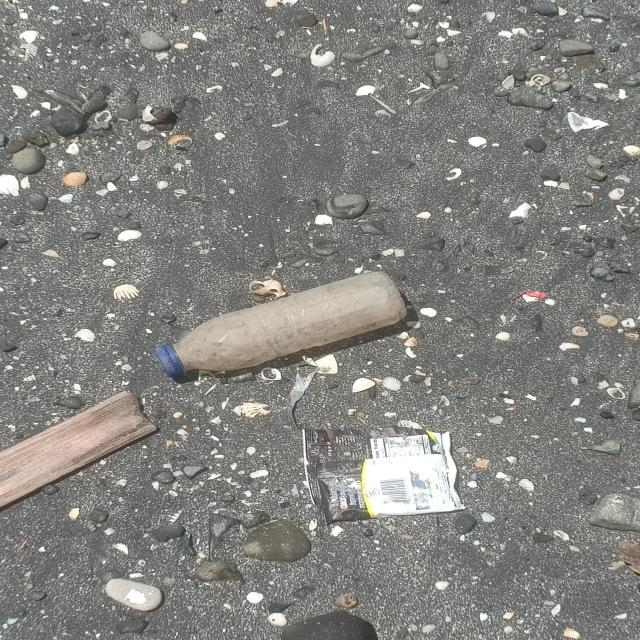litter: (158, 270, 412, 374), (302, 425, 464, 522)
